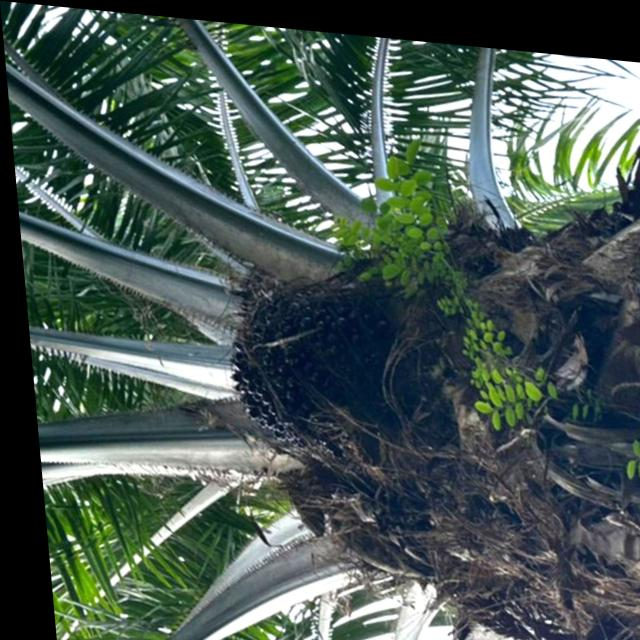almost: (205, 266, 401, 459)
